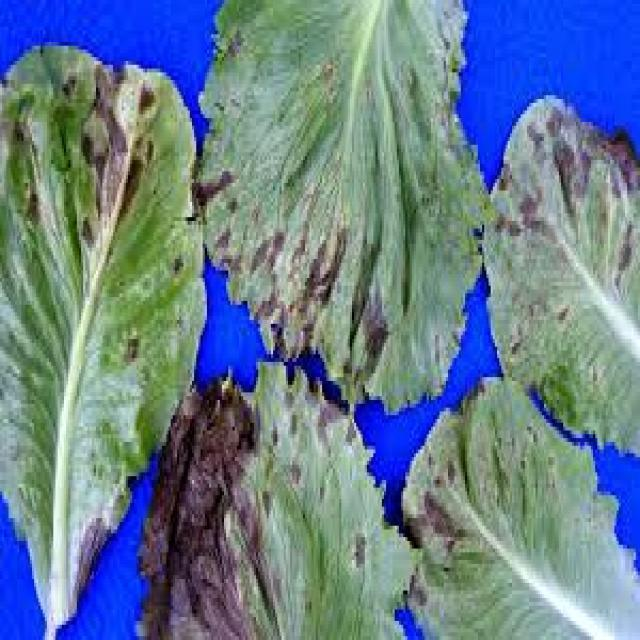Septoria_Blight_on_lettuce: (239, 25, 398, 296), (176, 408, 361, 638), (13, 67, 168, 335)
